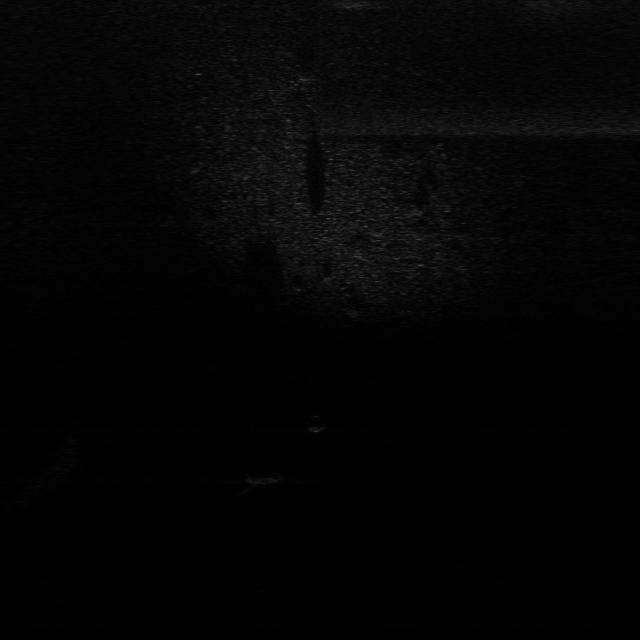ball: (302, 413, 329, 434)
circle cage: (240, 466, 290, 489)
